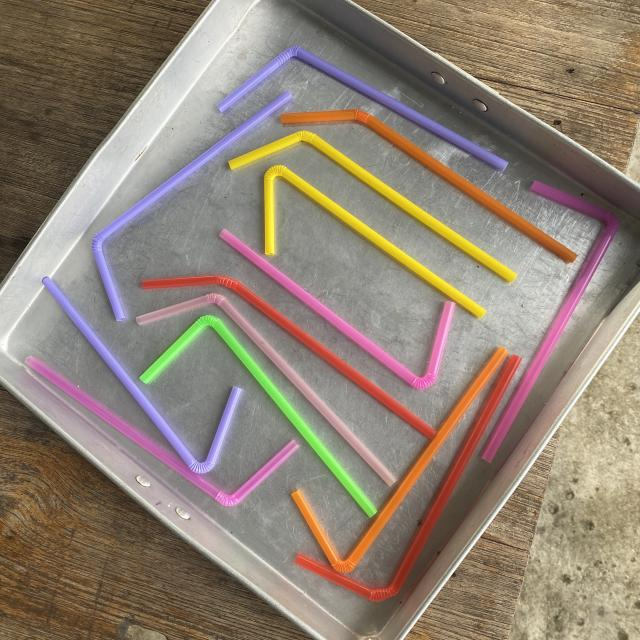Single-Use-Plastic: (296, 355, 521, 601), (136, 292, 396, 485), (292, 348, 508, 572), (140, 315, 376, 516), (141, 275, 432, 438), (92, 91, 291, 321), (281, 109, 576, 262), (229, 131, 516, 281), (26, 359, 299, 506), (42, 278, 241, 474), (481, 181, 619, 461), (220, 229, 455, 389), (218, 46, 508, 170), (264, 165, 485, 318)
